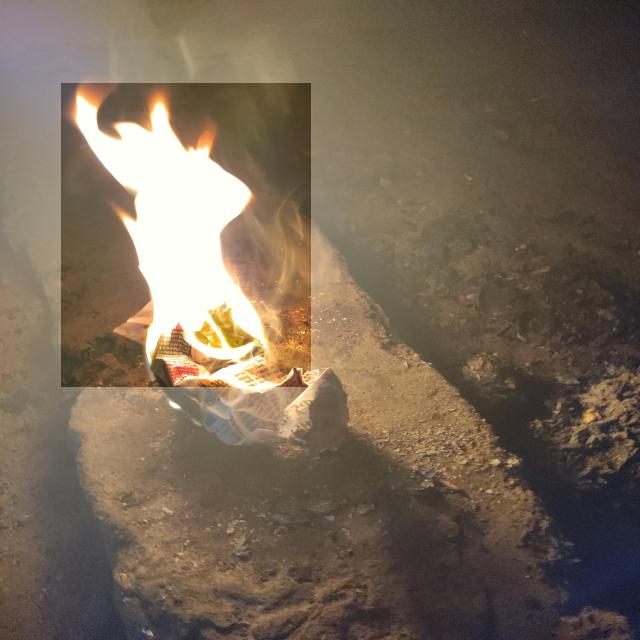Fire: (61, 83, 312, 387)
